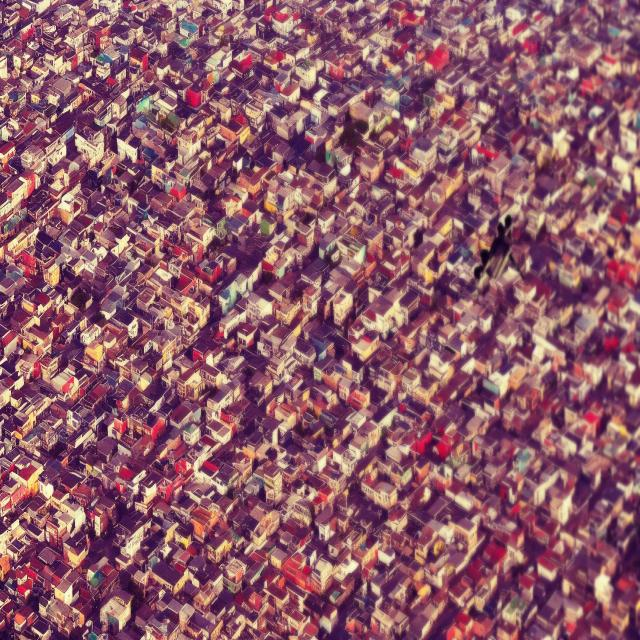airplane: (472, 214, 524, 287)
